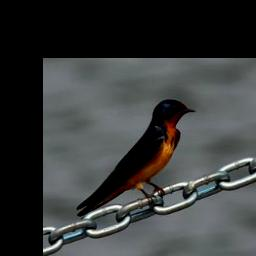Swallow: (76, 98, 197, 219)
